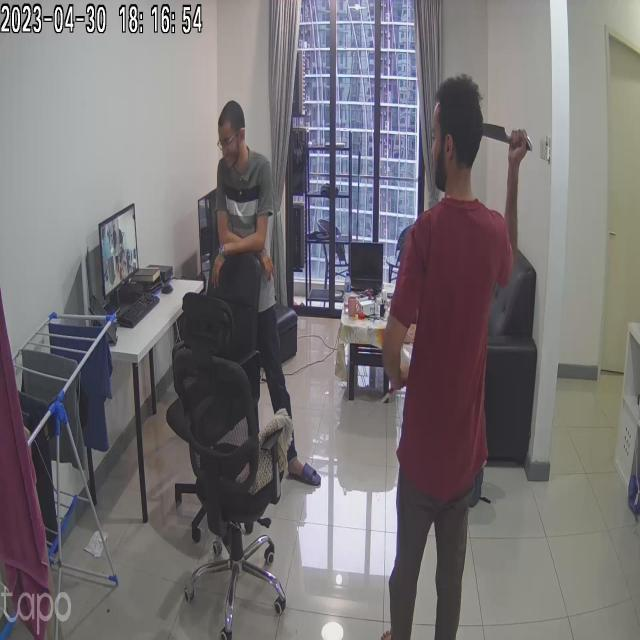Knife: (479, 115, 541, 162)
